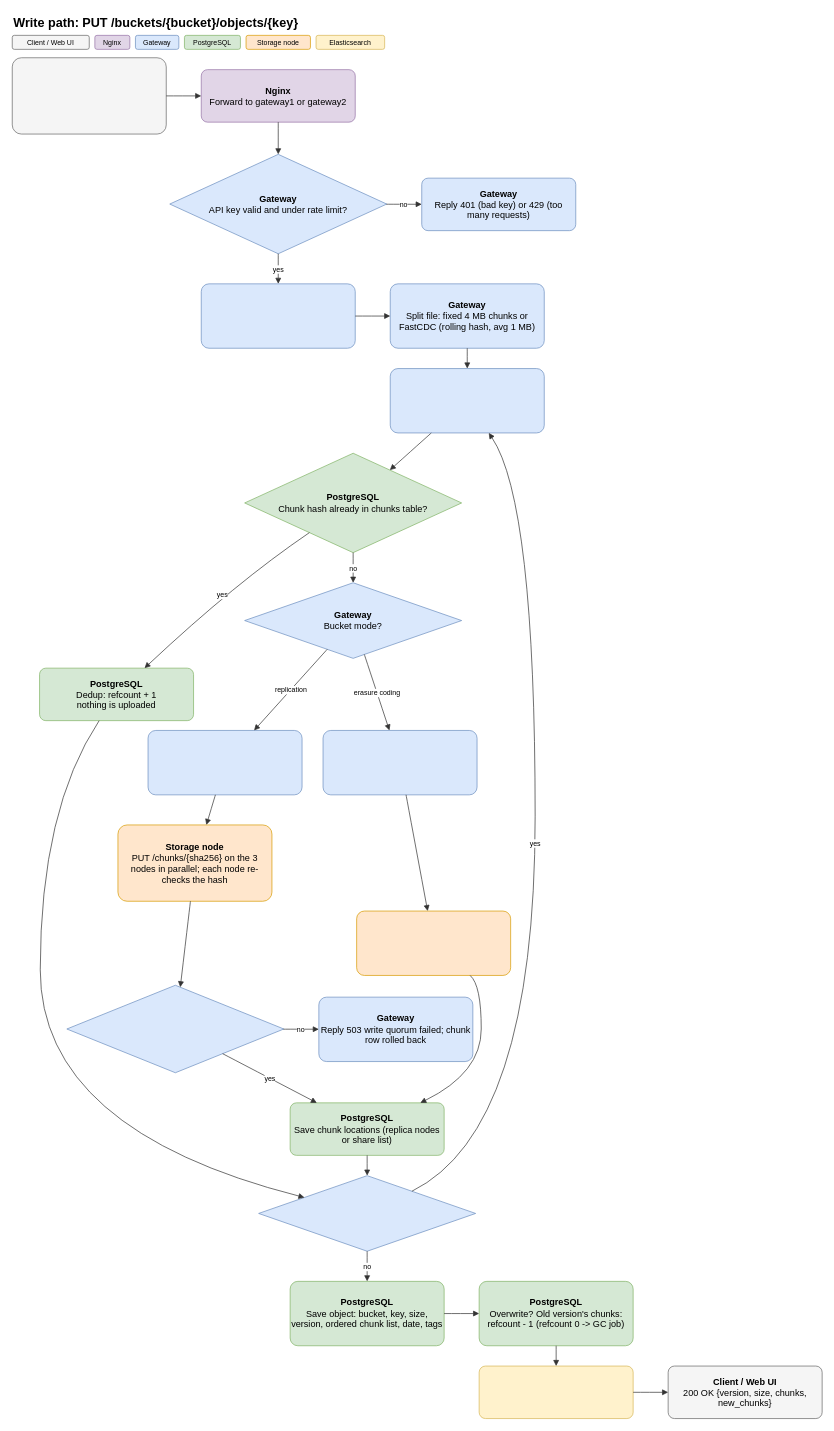
Image size: 834x1431. Some labels were removed from this diagram. Each missing label, with the centre of its shape:
Client / Web UI PUT object body ?chunking=fixed|cdc &tags=k=v header X-API-Key: the point at 89,95
Elasticsearch Index metadata in the background: the point at 555,1392
Gateway At least W=2 nodes acknowledged?: the point at 175,1029
Gateway Hash ring (100 virtual nodes per node) gives 3 distinct live nodes: the point at 224,762
Gateway More chunks?: the point at 367,1213
Gateway Stream body to a temp file (large files never fill RAM): the point at 278,315
Gateway Take next chunk chunk ID = SHA-256(content): the point at 467,400
Gateway zfec Reed-Solomon: 4 data + 2 parity shares, each with its own SHA-256: the point at 399,762
Storage node PUT one share on each of 6 ring nodes (at least 5 must succeed): the point at 433,942
